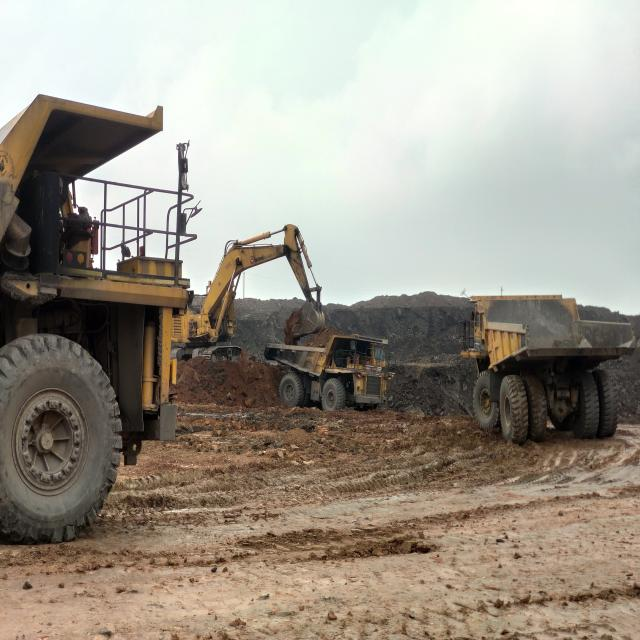dump_truck: (0, 96, 200, 545), (460, 295, 638, 446), (264, 326, 388, 412)
excavator: (177, 224, 325, 364)
